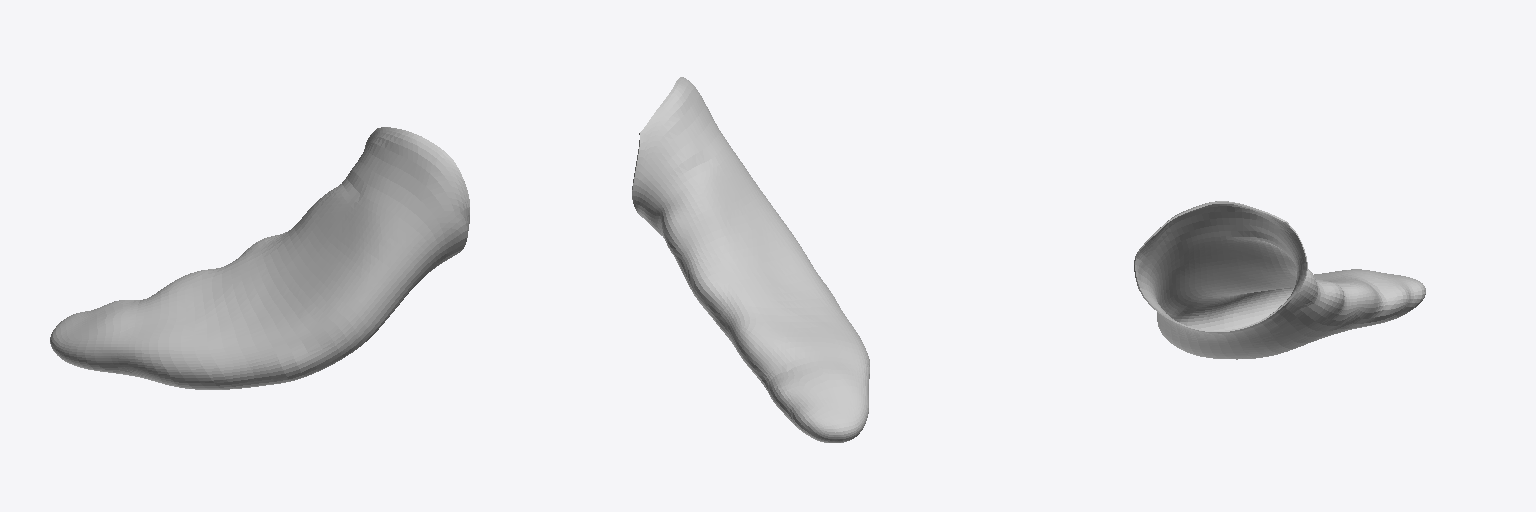
File: right_fin.obj
The picture shows the model from 3 angles: view 1: azimuth 30°, elevation 25°; view 2: azimuth 150°, elevation 25°; view 3: azimuth 270°, elevation 25°; orthographic projection.
Visible parts, largest first — view 1: whale; view 2: whale; view 3: whale.
Boxes of the visible parts, <box> form: whale: <box>50,127,469,389</box>; whale: <box>632,77,869,442</box>; whale: <box>1134,201,1425,359</box>.
Size of the model in its own units: 4.42 by 3.35 by 3.85.